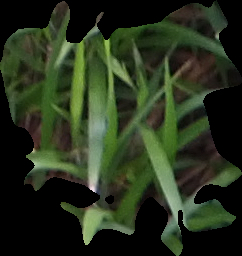grass: (1, 1, 240, 254)
